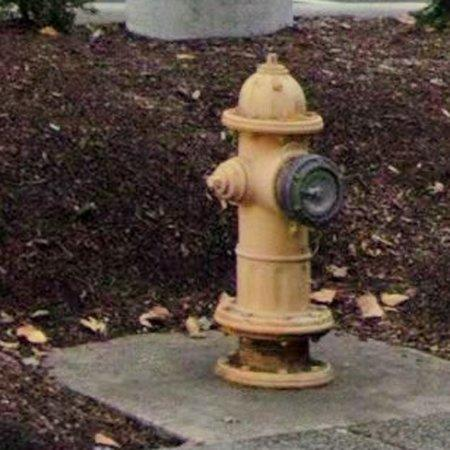a fire hydrant: (207, 53, 343, 390)
